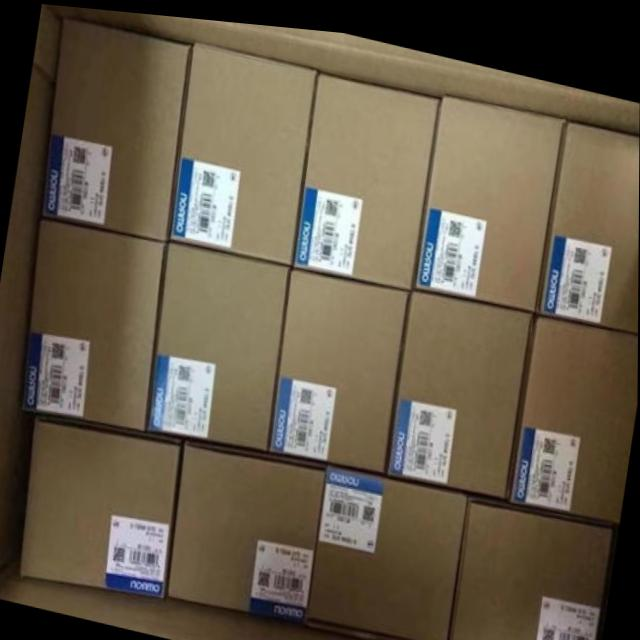box: (168, 39, 319, 262), (43, 14, 192, 238), (414, 85, 566, 303), (292, 64, 438, 283), (22, 217, 168, 430), (386, 281, 533, 490), (146, 238, 291, 448), (305, 457, 469, 640), (20, 412, 182, 594), (168, 436, 326, 620), (269, 262, 409, 469), (507, 303, 638, 516), (448, 485, 613, 640), (537, 110, 640, 323)
